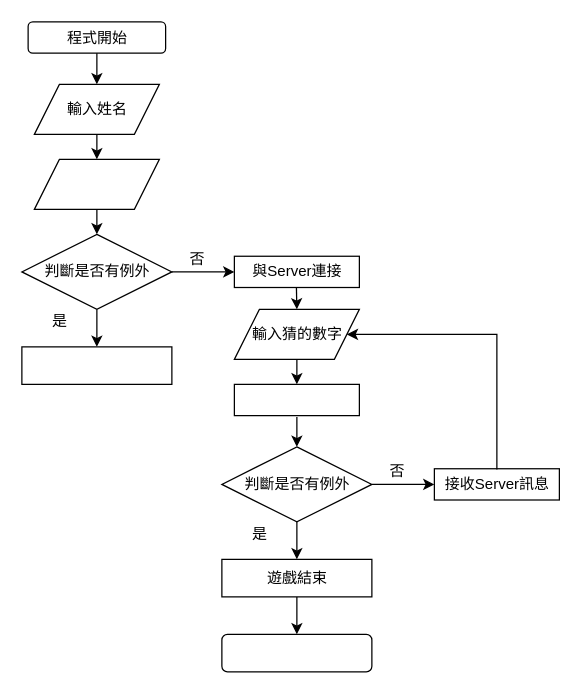
Image size: 581x694. Some labels were removed from this diagram. The shapes that lost their labels are listed below. From the top down, each one's centre as x and y in pixels, then its label:
At [96,183]: "輸入server IP".
At [96,365]: "手動重啟程式".
At [296,399]: "傳送給Server".
At [296,652]: "程式結束".
